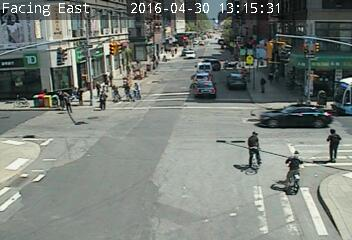neg: (6, 122, 39, 166), (320, 126, 351, 167), (237, 132, 267, 171), (281, 148, 310, 187), (88, 144, 117, 183), (152, 112, 178, 146), (168, 176, 191, 207), (192, 54, 211, 78)
pos: (129, 79, 145, 101), (60, 89, 76, 110), (97, 90, 111, 110), (255, 74, 269, 93), (74, 84, 88, 102), (91, 80, 102, 95)
